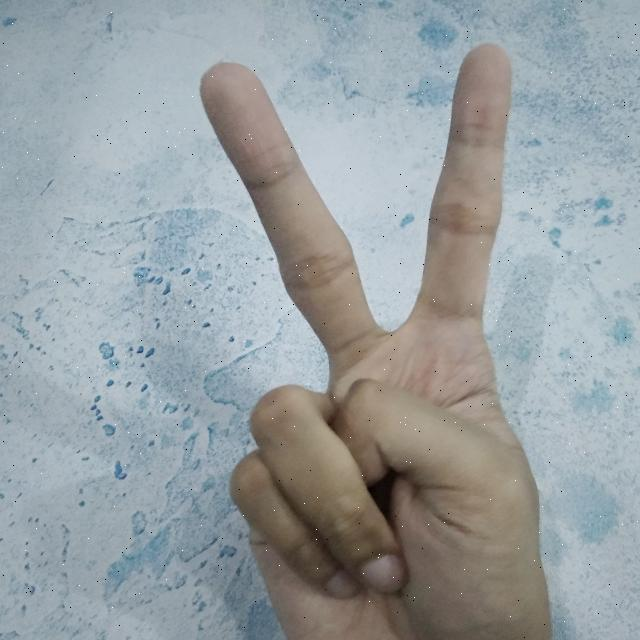V: (192, 34, 563, 640)
